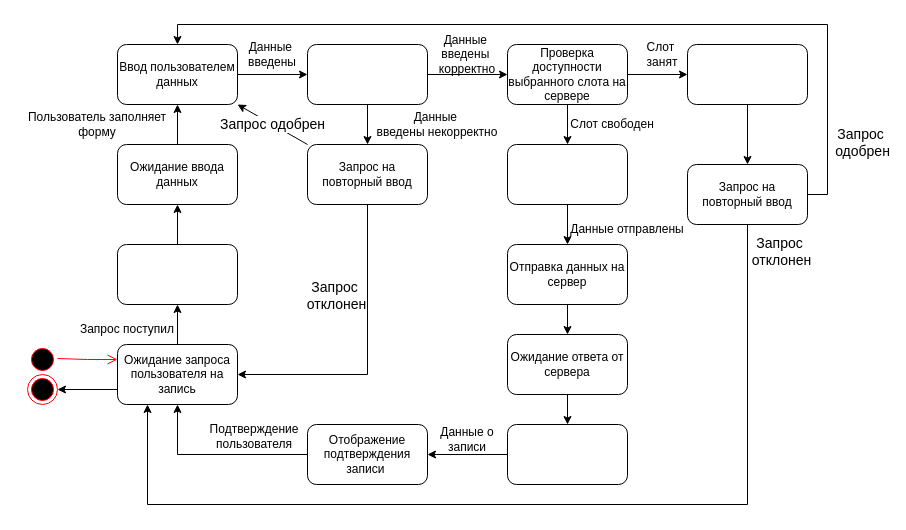
Some shapes in this 906 by 530 pixel diagram are drawn without their labels. The shapes that lost their labels are listed below. From the top down, each one's centre as x and y in pixels, then its label:
At point (367, 74): "Проверка данных на валидность".
At point (747, 74): "Отправка сообщения о занятости слота".
At point (567, 174): "Резервирование данного слота".
At point (177, 274): "Система отображает форму".
At point (567, 454): "Получение ответа".
